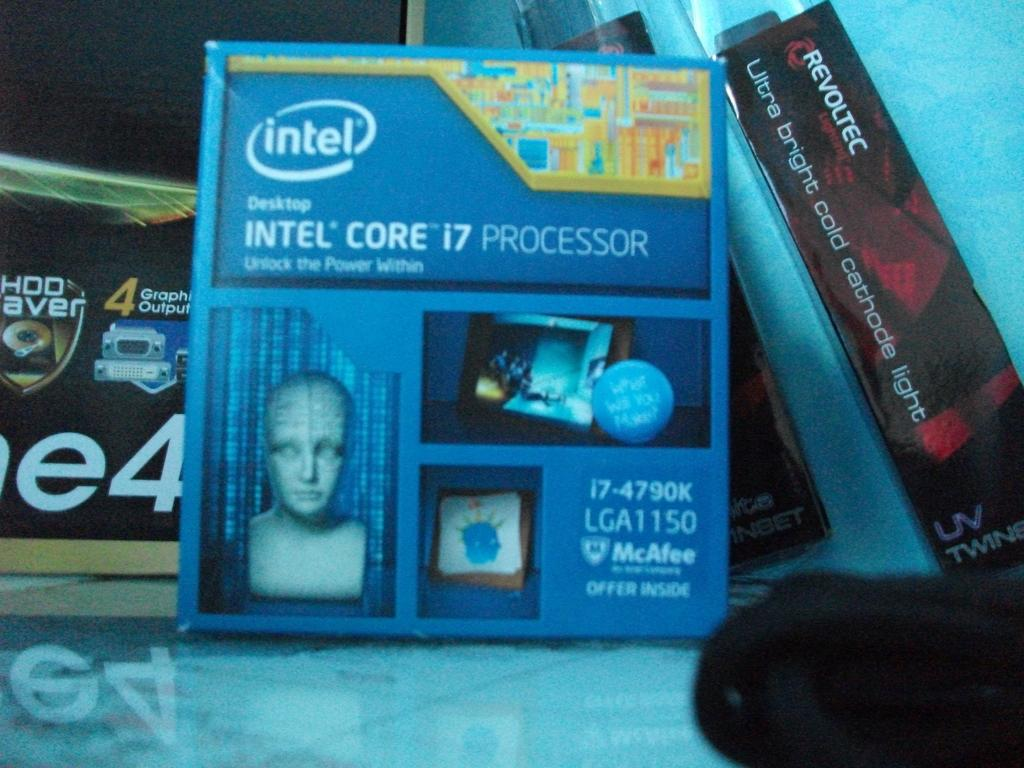Book: (518, 0, 938, 614), (0, 0, 403, 580), (708, 0, 1023, 590)
